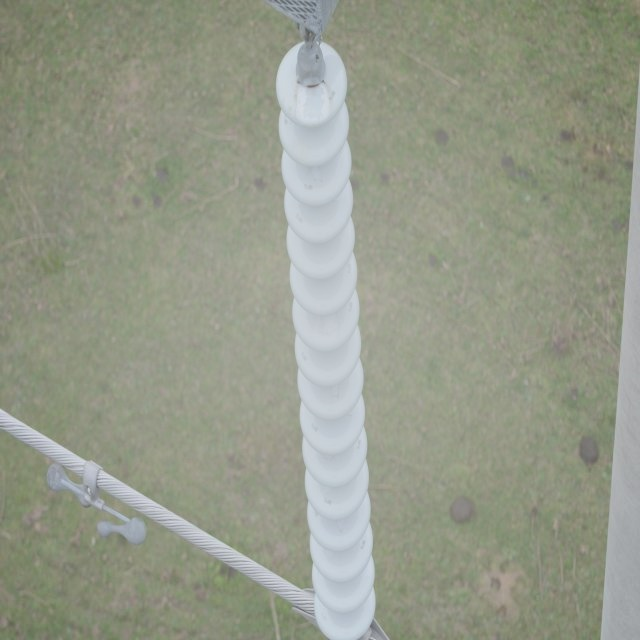insulator: (275, 43, 373, 640)
